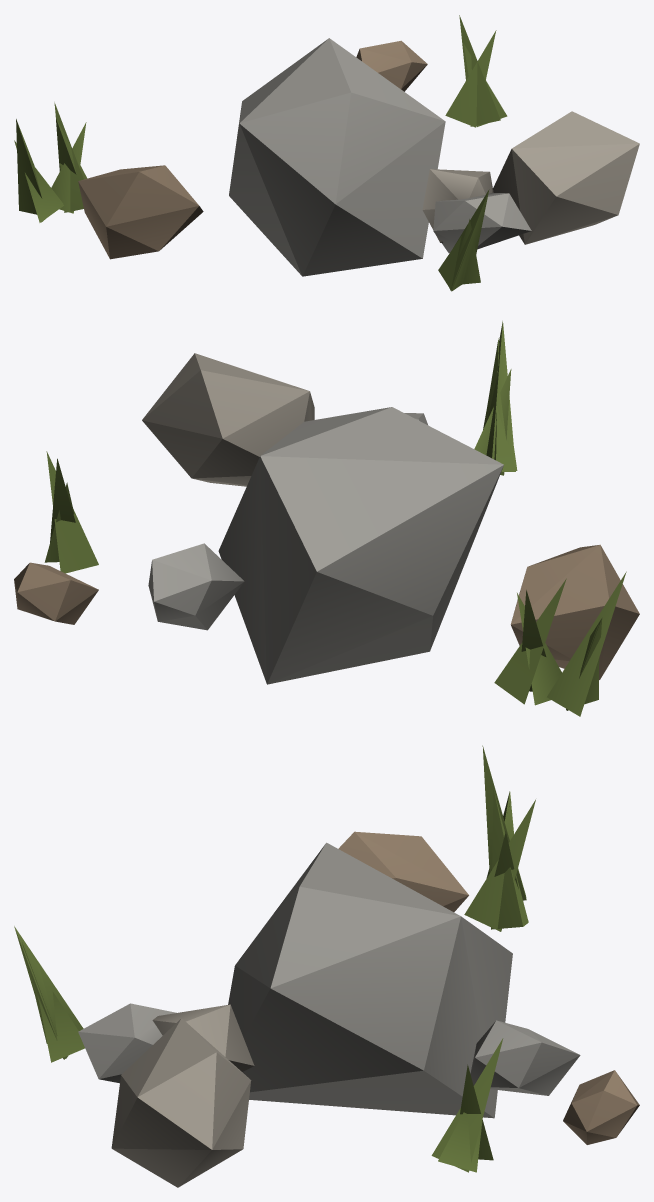
File: rocks_b.glb
The picture shows the model from 3 angles, top to bottom: view 1: azimuth 30°, elevation 25°; view 2: azimuth 150°, elevation 25°; view 3: azimuth 270°, elevation 25°; orthographic projection. The views are drawn at different scales.
Visible parts, largest first — view 1: rocks_b; view 2: rocks_b; view 3: rocks_b.
Part boxes in pixels (box(x1,y1,x2,y2)): rocks_b: box(14, 15, 639, 291); rocks_b: box(14, 321, 639, 716); rocks_b: box(14, 745, 639, 1187).
Bounding box in the file's own units: 2.13 × 0.7382 × 1.84.
